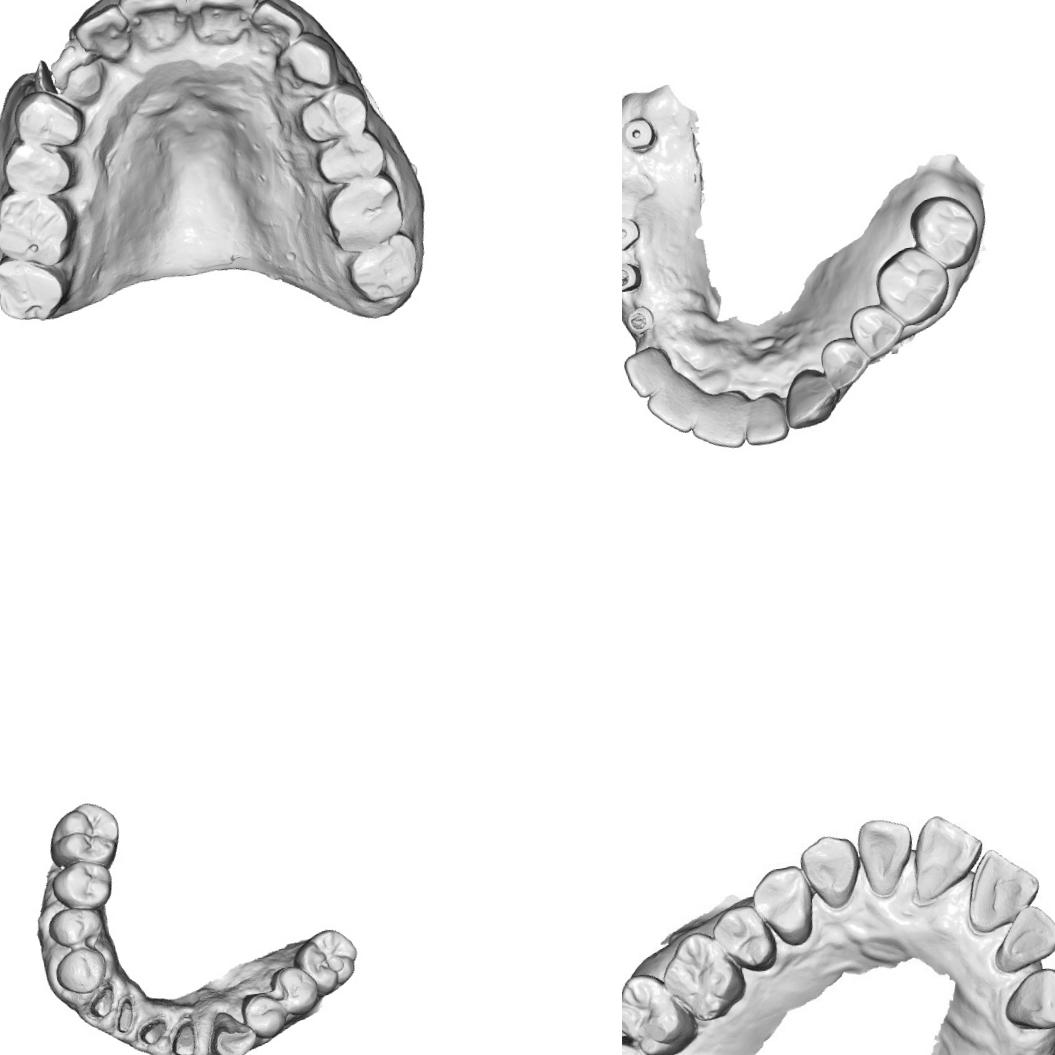canine: (795, 828, 864, 913), (778, 363, 846, 431), (278, 28, 344, 95), (997, 964, 1055, 1035), (52, 944, 110, 998), (203, 1006, 259, 1055)
crown: (166, 1016, 200, 1055), (84, 982, 117, 1020), (134, 1016, 170, 1047), (110, 996, 138, 1034)
implant: (622, 113, 658, 157), (624, 303, 656, 337), (622, 213, 642, 254), (622, 259, 644, 296)
incisor: (957, 840, 1046, 934), (903, 806, 993, 896), (851, 814, 919, 894), (985, 897, 1055, 973), (114, 0, 194, 59), (68, 1, 134, 70), (642, 369, 705, 438), (687, 389, 748, 454), (184, 0, 264, 49), (622, 342, 676, 400), (249, 0, 308, 53), (740, 390, 791, 447)
molar: (655, 923, 748, 1027), (870, 241, 955, 330), (320, 172, 409, 256), (0, 182, 79, 275), (906, 186, 984, 274), (622, 967, 700, 1055), (43, 798, 125, 878), (344, 229, 428, 307), (0, 251, 71, 330), (289, 925, 363, 1000)
premolar: (746, 861, 823, 954), (708, 898, 781, 982), (9, 84, 89, 155), (0, 134, 80, 202), (310, 126, 392, 190), (294, 84, 372, 147), (846, 300, 909, 364), (48, 856, 116, 915), (818, 334, 872, 394), (267, 962, 322, 1019), (45, 904, 106, 952), (238, 988, 290, 1042)
